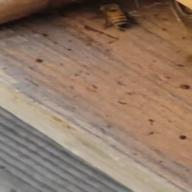Bee: (92, 4, 142, 35)
